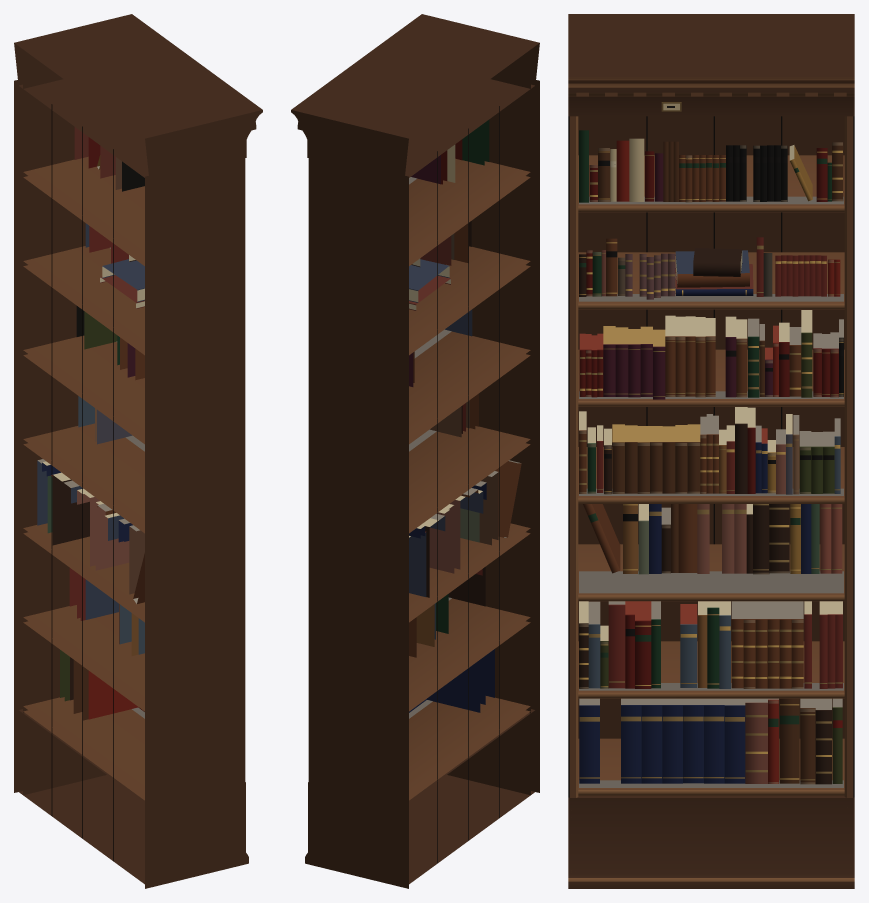
Rendered from bookcase_aisle.glb.
The picture shows the model from 3 angles, left to right: view 1: azimuth 30°, elevation 25°; view 2: azimuth 150°, elevation 25°; view 3: azimuth 270°, elevation 25°; orthographic projection. The views are drawn at different scales.
Parts seen in each view (by area): view 1: regal; view 2: regal; view 3: regal.
Boxes of the visible parts, x1=… form: regal: x1=14, y1=14, x2=262, y2=888; regal: x1=291, y1=14, x2=539, y2=888; regal: x1=568, y1=14, x2=854, y2=888.
Size of the model in its own units: 0.52 by 3.16 by 1.
